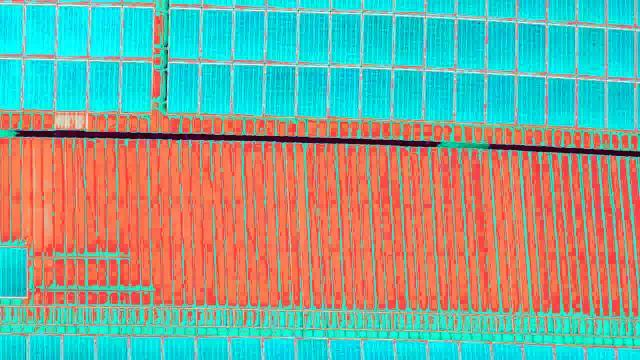dirty: (24, 3, 57, 57), (57, 4, 90, 58), (88, 5, 121, 59), (120, 6, 153, 60), (169, 9, 200, 61), (202, 8, 233, 60), (232, 9, 263, 61), (266, 10, 297, 62), (297, 11, 328, 63), (331, 13, 362, 65), (360, 13, 391, 65), (394, 15, 425, 67), (425, 18, 456, 70), (454, 18, 485, 70), (484, 21, 515, 73), (516, 22, 547, 74), (545, 23, 576, 75), (575, 25, 606, 77), (607, 27, 635, 76), (606, 78, 634, 127), (577, 79, 605, 128), (547, 77, 575, 126), (517, 74, 545, 123), (486, 73, 514, 122), (454, 71, 482, 120), (423, 70, 451, 119), (394, 70, 422, 119), (361, 67, 389, 116), (330, 66, 358, 115), (298, 65, 326, 114), (267, 65, 295, 114), (234, 64, 262, 113), (202, 64, 230, 113), (169, 62, 197, 111), (122, 63, 150, 112), (89, 61, 117, 110), (57, 59, 85, 108), (23, 59, 51, 108), (1, 248, 27, 297)
